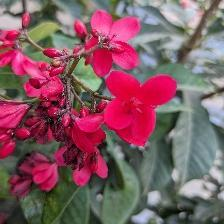jatropha: (106, 68, 179, 148)
